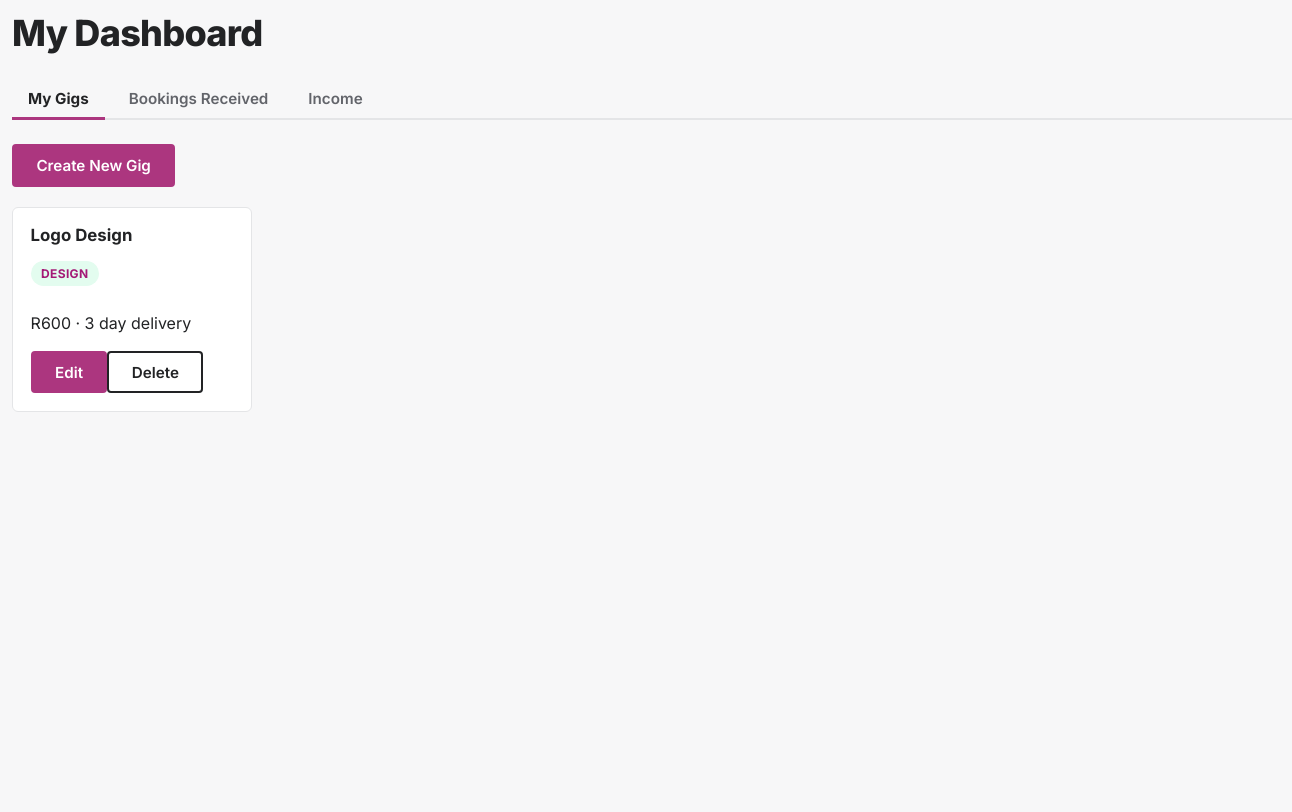
Scenario: FreelancerDashboardPage editing a gig › sends the changes to the update endpoint for that gig and refreshes the list
Click the button "Edit" at [69, 372], box [31, 351, 107, 394]
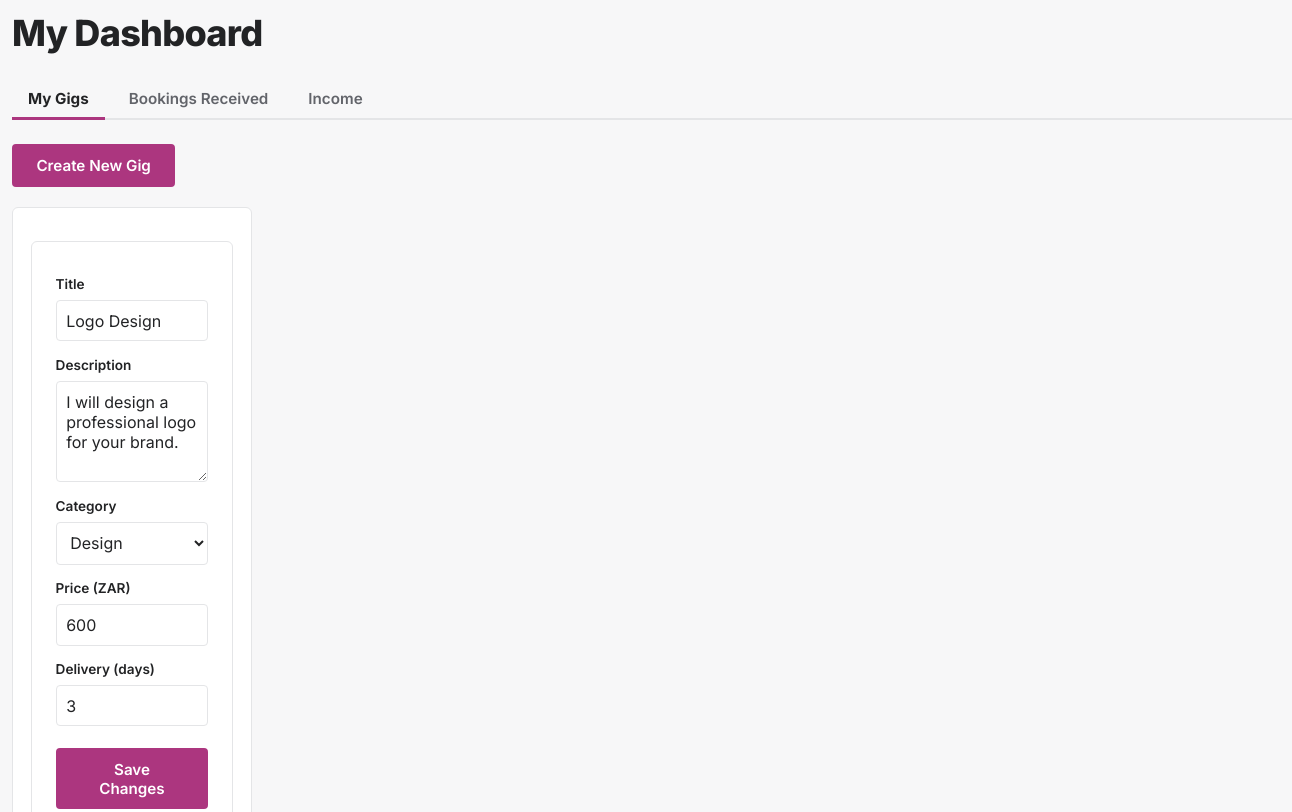
Replace the text in the number field labelled "Price (ZAR)" with "750" at [132, 625], box [56, 604, 208, 646]
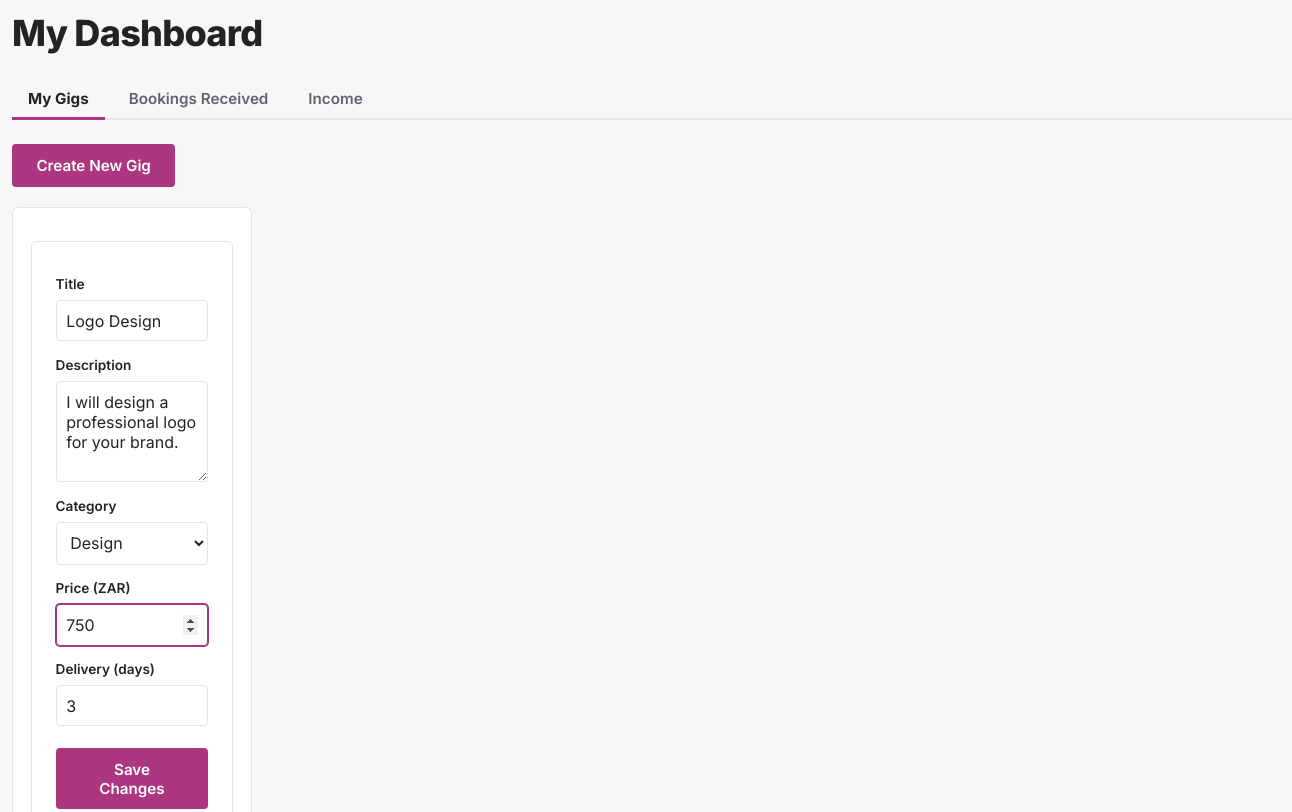
Click the button "Save Changes" at [132, 779], box [56, 748, 208, 809]
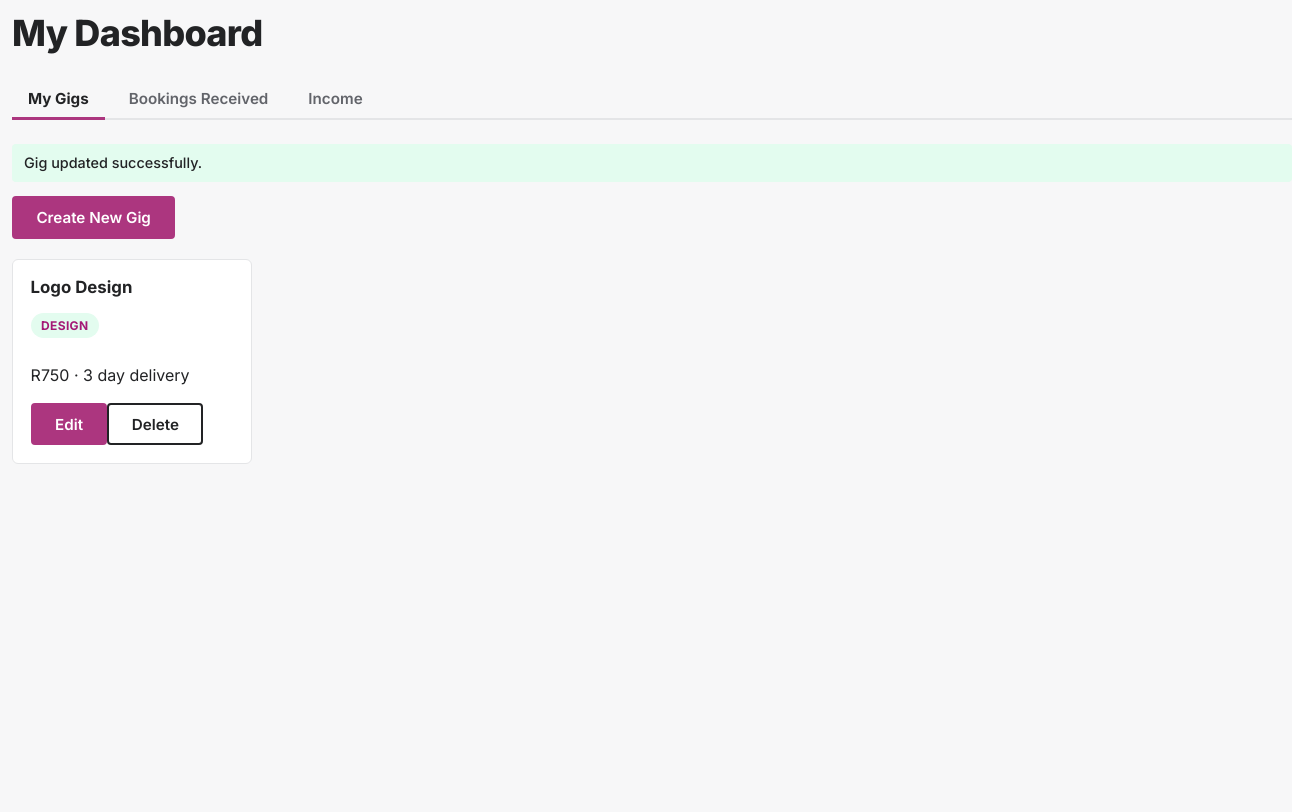
Now the message reads "Gig updated successfully.", box [24, 154, 202, 171]
Now the text "R750 · 3 day delivery" is shown, box [31, 365, 190, 385]
